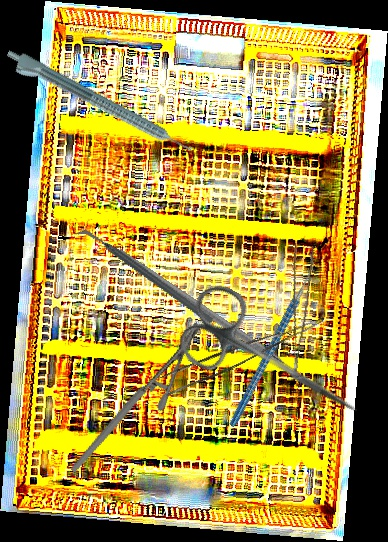Chopper: (181, 249, 362, 428), (72, 192, 216, 360)
Handpiece: (0, 45, 195, 165)
Hook Surgical: (114, 248, 308, 385)
Iris Scissors: (169, 277, 379, 444)
Needle Holder: (37, 320, 233, 475)
Tissue Forceps: (157, 298, 326, 402), (271, 242, 321, 374)
